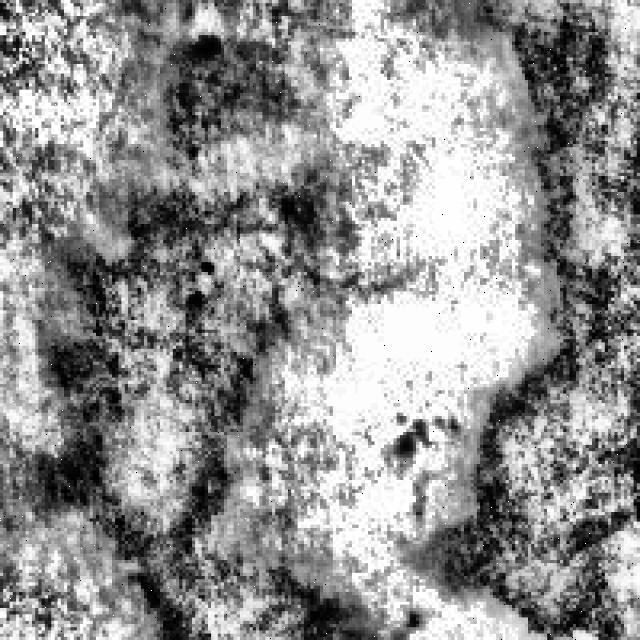Scratches: (38, 156, 333, 598), (439, 0, 640, 630), (131, 522, 416, 634), (153, 22, 304, 176)
